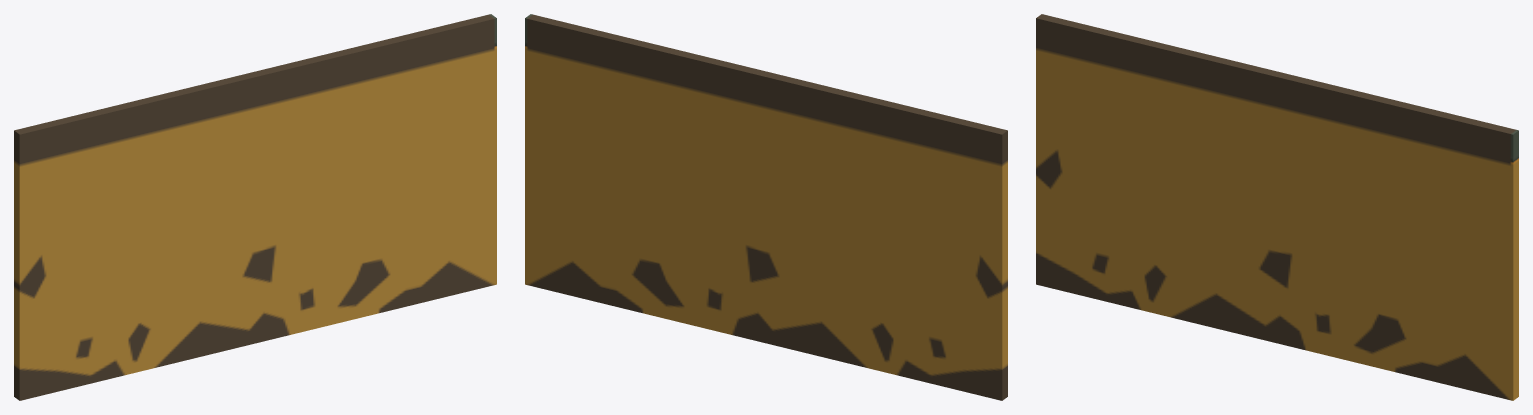
File: SM_Prop_Flag_02.fbx
3 renders of one model, left to right at view 1: azimuth 30°, elevation 25°; view 2: azimuth 150°, elevation 25°; view 3: azimuth 330°, elevation 25°, orthographic.
Parts seen in each view (by area): view 1: SM_Prop_Flag_02; view 2: SM_Prop_Flag_02; view 3: SM_Prop_Flag_02.
Part boxes in pixels (x1=…): SM_Prop_Flag_02: x1=14, y1=14, x2=496, y2=400; SM_Prop_Flag_02: x1=525, y1=14, x2=1007, y2=400; SM_Prop_Flag_02: x1=1036, y1=14, x2=1518, y2=400.
Size of the model in its own units: 166 by 88.43 by 3.49.
